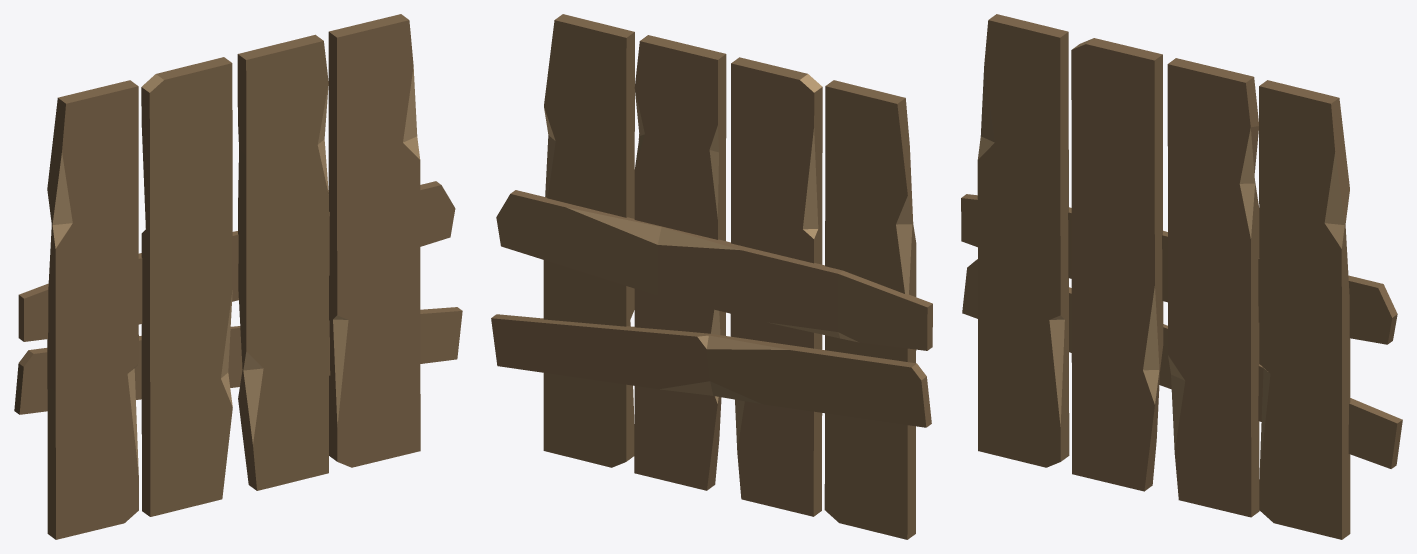
The model's file is Barrier.fbx.
The picture shows the model from 3 angles, left to right: view 1: azimuth 30°, elevation 25°; view 2: azimuth 150°, elevation 25°; view 3: azimuth 330°, elevation 25°; orthographic projection.
Parts seen in each view (by area): view 1: Cube.030, Cube.031, Cube.032, Cube.033, Cube.023, Cube.020; view 2: Cube.020, Cube.030, Cube.031, Cube.032, Cube.033, Cube.023; view 3: Cube.032, Cube.033, Cube.031, Cube.030, Cube.023, Cube.020.
Part boxes in pixels (x1,y1,x2,y2): Cube.030: [328, 14, 420, 467]; Cube.031: [47, 80, 138, 539]; Cube.032: [141, 57, 232, 516]; Cube.033: [237, 34, 328, 490]; Cube.023: [14, 307, 462, 414]; Cube.020: [18, 181, 455, 341]; Cube.020: [496, 190, 932, 350]; Cube.030: [543, 14, 634, 467]; Cube.031: [824, 80, 916, 539]; Cube.032: [730, 57, 822, 516]; Cube.033: [634, 35, 726, 490]; Cube.023: [491, 314, 931, 427]; Cube.032: [1071, 38, 1163, 491]; Cube.033: [1167, 58, 1259, 517]; Cube.031: [977, 14, 1069, 467]; Cube.030: [1259, 80, 1350, 539]; Cube.023: [962, 259, 1402, 468]; Cube.020: [961, 194, 1397, 344].
Bounding box in the file's own units: 268 × 253 × 17.14.
